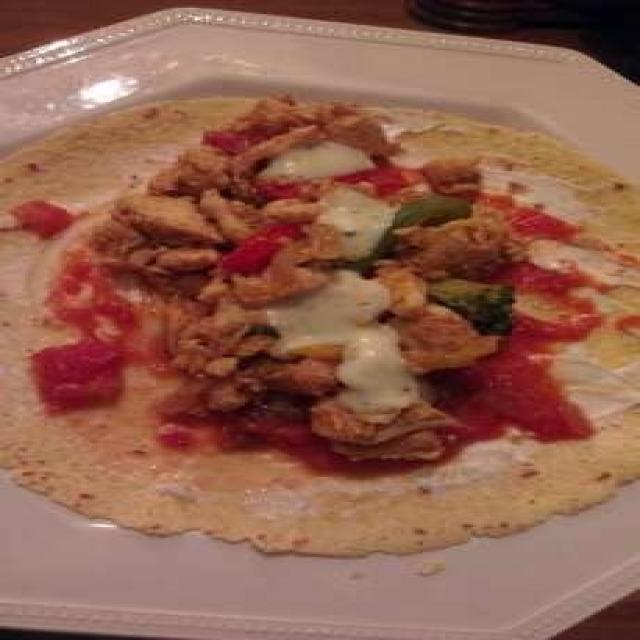面包点心: (6, 16, 632, 610)
